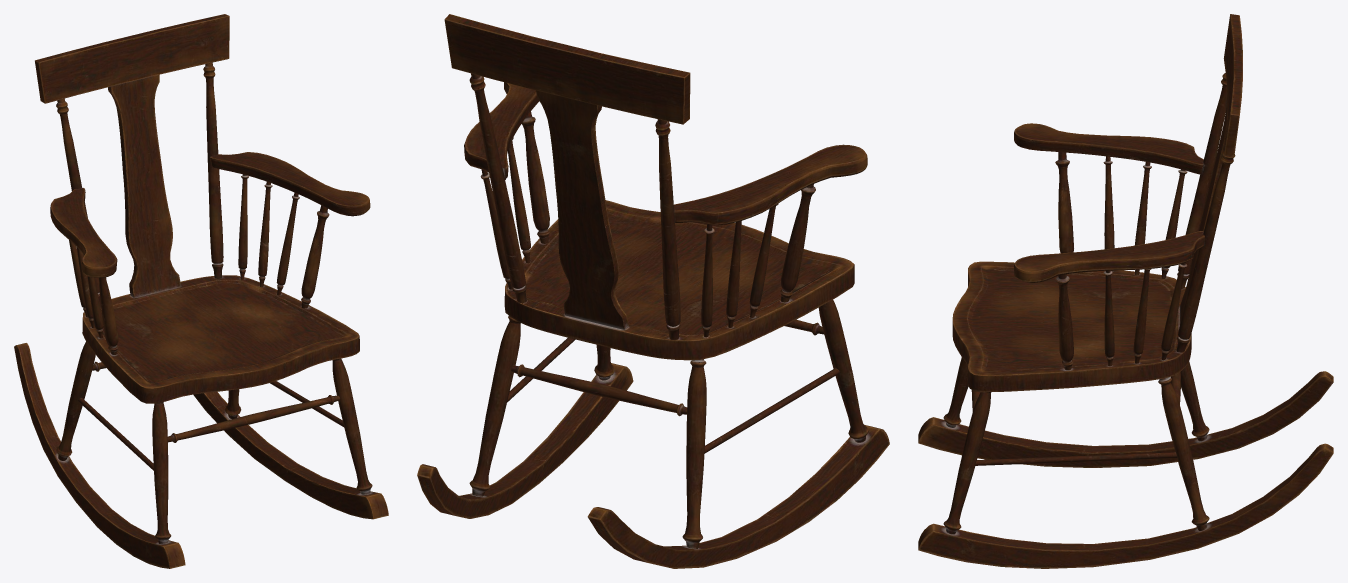
File: Rockingchair_01_1k.glb
3 views of the same model, side by side, from view 1: azimuth 30°, elevation 25°; view 2: azimuth 150°, elevation 25°; view 3: azimuth 270°, elevation 25° (orthographic). The views are drawn at different scales.
Visible parts, largest first — view 1: Rockingchair_01; view 2: Rockingchair_01; view 3: Rockingchair_01.
Part boxes in pixels (left/top/right/bottom): Rockingchair_01: left=14, top=14, right=388, bottom=568; Rockingchair_01: left=417, top=14, right=889, bottom=568; Rockingchair_01: left=918, top=14, right=1333, bottom=568.
Bounding box in the file's own units: 0.7081 × 0.9949 × 0.8335.
Materials: 1 (1 with a texture image).
